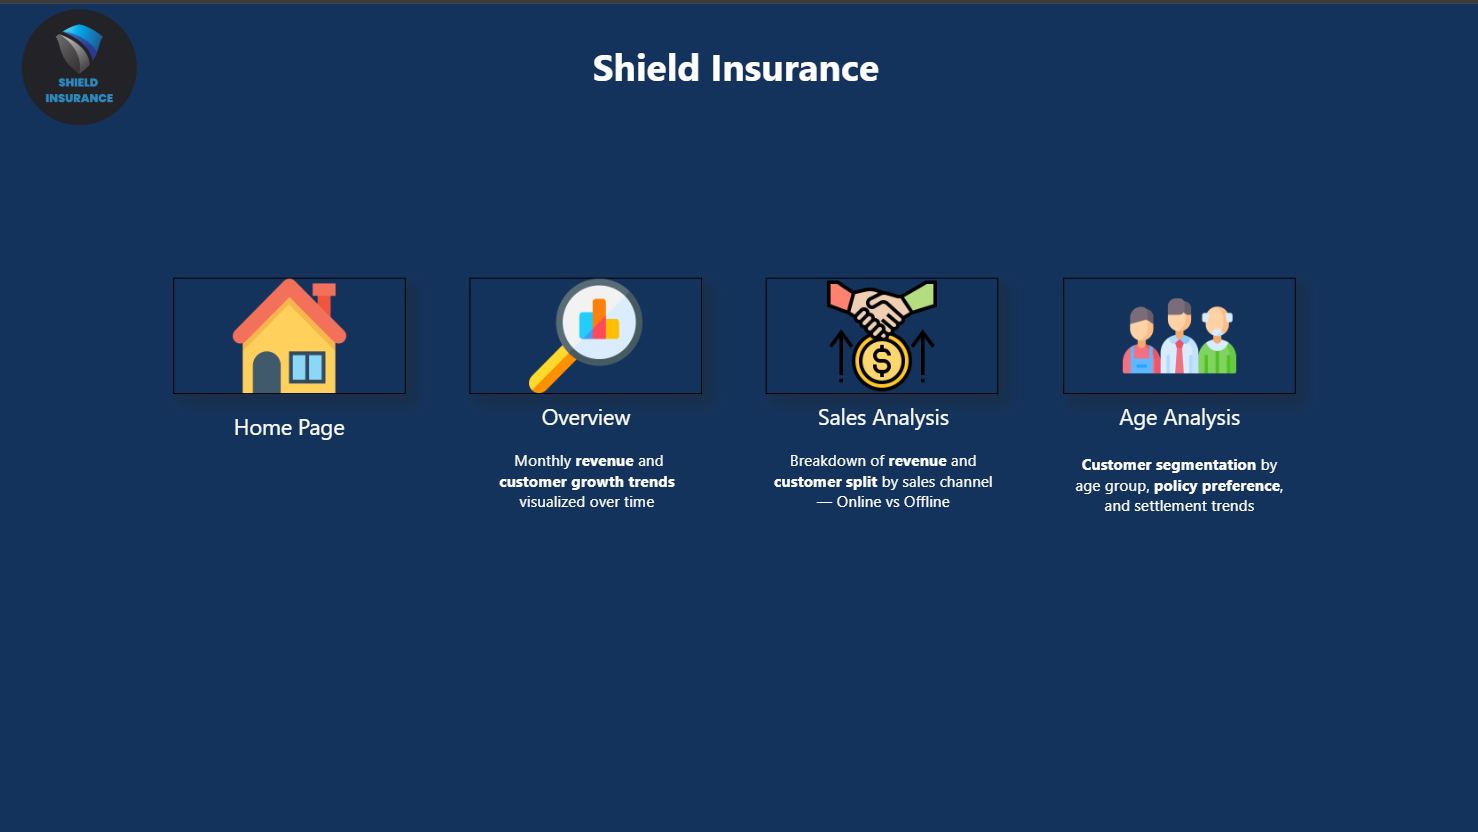

The dashboard page shown, as its layout file describes it:
{"tool":"powerbi","page":{"name":"Home","canvas":[1280,720],"ordinal":0},"visuals":[{"type":"image","box":[151.3,235,200,100],"z":0},{"type":"image","box":[406.6,235,200,100],"z":1000},{"type":"image","box":[661.8,235,200,100],"z":2000},{"type":"image","box":[917,235,200,100],"z":3000},{"type":"textbox","box":[406.6,337.8,200.3,43.9],"z":4000},{"type":"textbox","box":[662.3,337.8,200.3,43.9],"z":5000},{"type":"textbox","box":[916.9,337.8,200.3,43.9],"z":6000},{"type":"textbox","box":[407.8,378.8,200,150],"z":7000},{"type":"textbox","box":[662.3,378.8,200.3,148.2],"z":8000},{"type":"textbox","box":[916.9,381.2,200,150],"z":9000},{"type":"image","box":[0,0,141.3,108.4],"z":10000},{"type":"textbox","box":[0,26.5,1280,54.3],"z":11000},{"type":"textbox","box":[194.2,346.2,113.4,35],"z":12000}]}

Visuals, with their boxes in screenshot pixels (x1, y1, x2, y2), scaled from the page's 1280x720 canvas onto the 1478x832 screenshot:
image: l=175, t=272, r=406, b=387
image: l=469, t=272, r=700, b=387
image: l=764, t=272, r=995, b=387
image: l=1059, t=272, r=1290, b=387
textbox: l=469, t=390, r=701, b=441
textbox: l=765, t=390, r=996, b=441
textbox: l=1059, t=390, r=1290, b=441
textbox: l=471, t=438, r=702, b=611
textbox: l=765, t=438, r=996, b=609
textbox: l=1059, t=440, r=1290, b=614
image: l=0, t=0, r=163, b=125
textbox: l=0, t=31, r=1477, b=93
textbox: l=224, t=400, r=355, b=440
